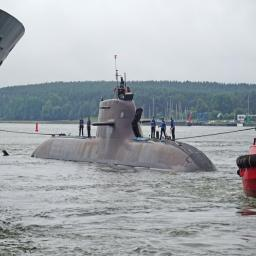submarine: (31, 56, 221, 173)
